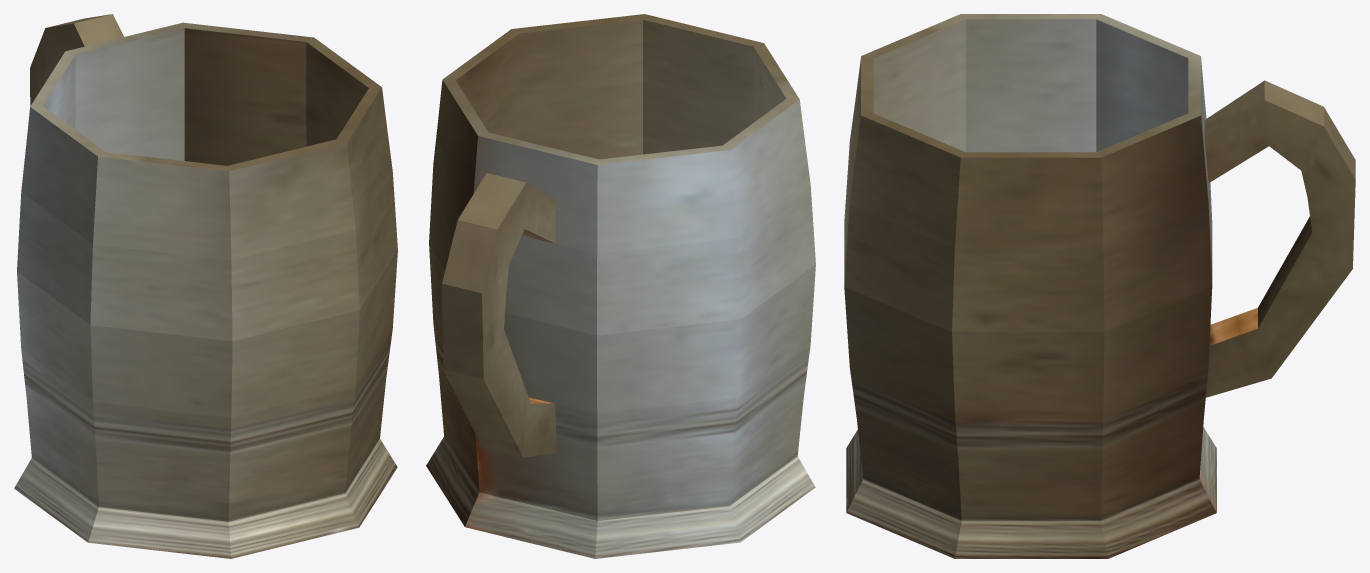
File: Tankard.fbx
The picture shows the model from 3 angles, left to right: view 1: azimuth 30°, elevation 25°; view 2: azimuth 150°, elevation 25°; view 3: azimuth 270°, elevation 25°; orthographic projection. The views are drawn at different scales.
Parts seen in each view (by area): view 1: Cylinder; view 2: Cylinder; view 3: Cylinder.
Boxes of the visible parts, x1=… form: Cylinder: x1=14, y1=14, x2=397, y2=558; Cylinder: x1=426, y1=14, x2=815, y2=558; Cylinder: x1=844, y1=14, x2=1355, y2=558.
Size of the model in its own units: 204 by 240 by 282.
Materials: 1 (1 with a texture image).
